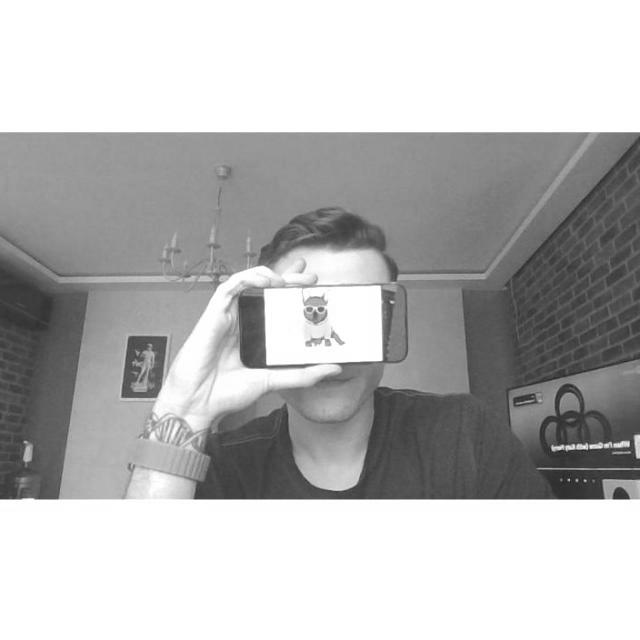fake: (234, 276, 414, 372)
